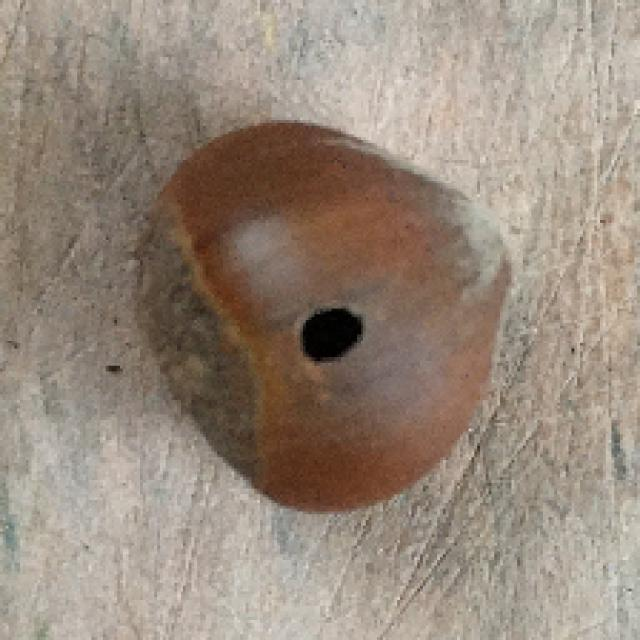damagedHazelnut: (125, 118, 526, 529)
